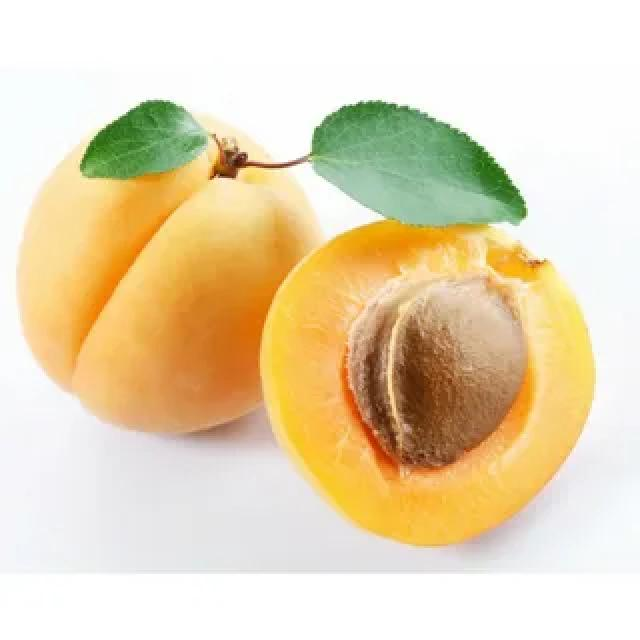Cekirdek: (348, 272, 524, 464)
Kayisi: (80, 178, 320, 430)
Yaprak: (80, 100, 208, 178)
